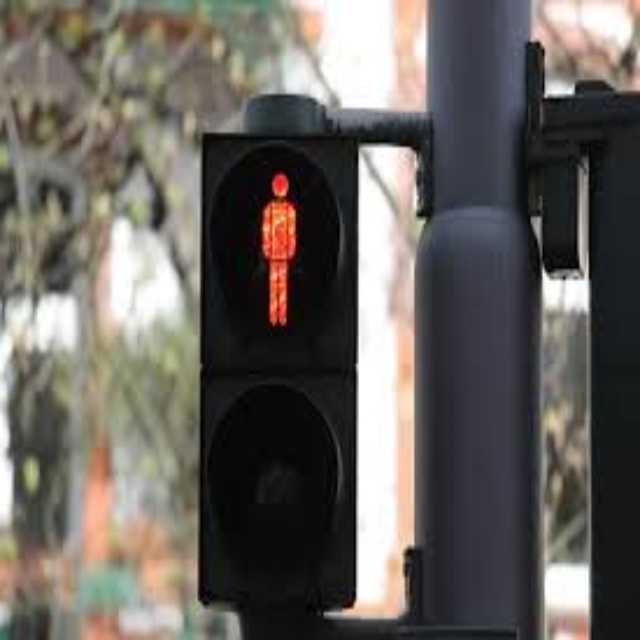red_light: (254, 168, 311, 326)
